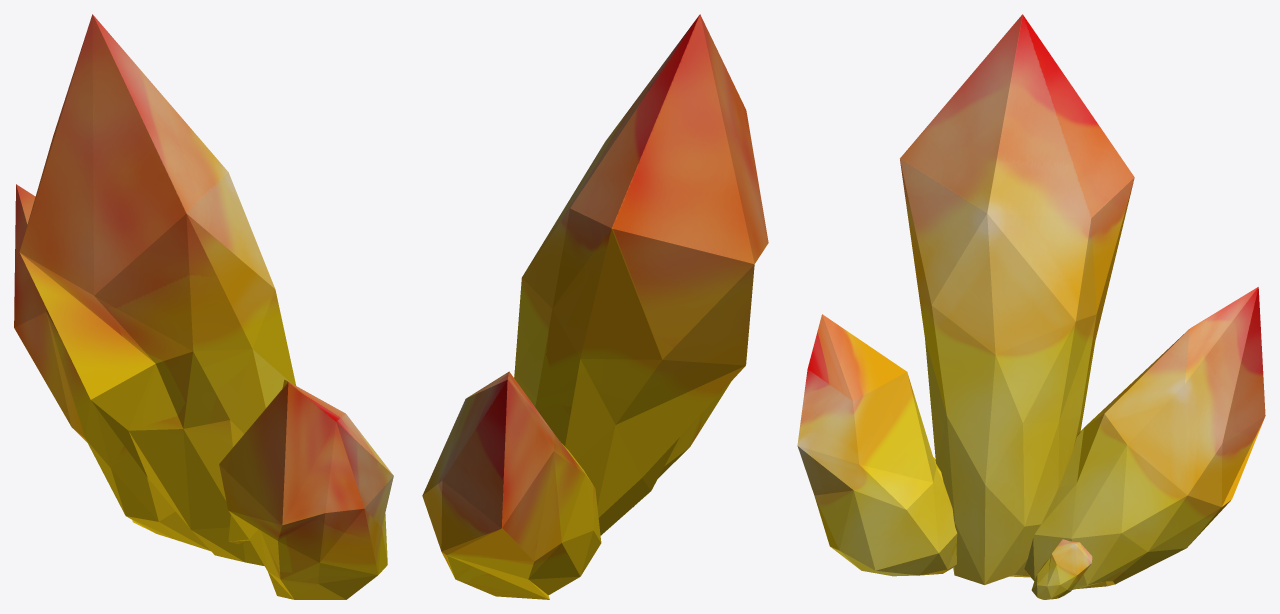
File: shard_1.fbx
3 views of the same model, side by side, from view 1: azimuth 30°, elevation 25°; view 2: azimuth 150°, elevation 25°; view 3: azimuth 270°, elevation 25° (orthographic). The views are drawn at different scales.
Visible parts, largest first — view 1: Icosphere.003; view 2: Icosphere.003; view 3: Icosphere.003.
Part boxes in pixels (left/top/right/bottom): Icosphere.003: left=14, top=14, right=393, bottom=599; Icosphere.003: left=422, top=14, right=768, bottom=599; Icosphere.003: left=797, top=14, right=1265, bottom=599.
Bounding box in the file's own units: 398 × 772 × 639.
Materials: 1 (1 with a texture image).
